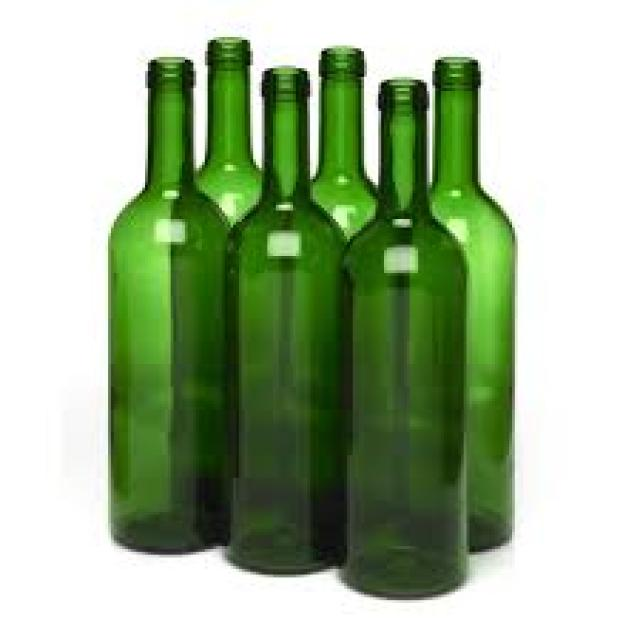glass: (336, 74, 469, 594), (222, 65, 347, 572), (105, 57, 222, 549), (424, 54, 512, 549), (307, 46, 376, 236), (193, 37, 262, 222)
